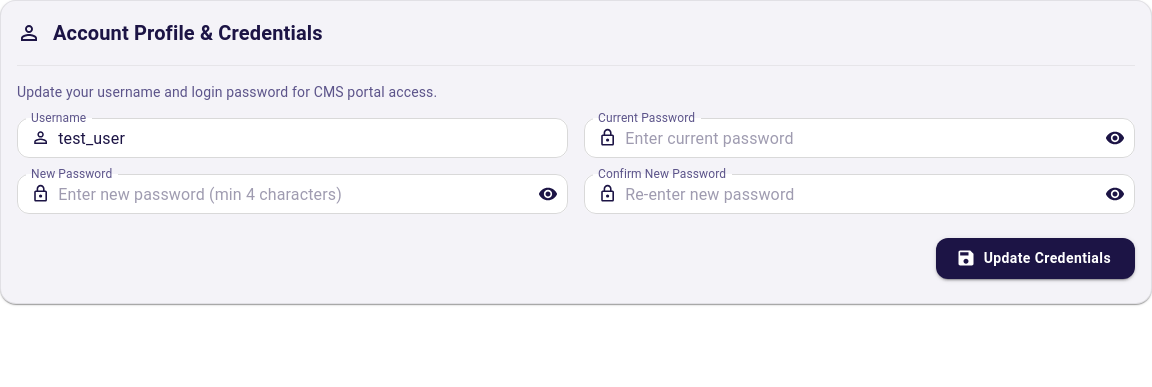
it: AccountSettingsCard Component › displays error when new password is less than 4 characters
The width and height of the screenshot is (1152, 387).
Type "123" into the password field labelled "New Password" at x=290, y=194, box top-left (58, 174), bottom-right (522, 214)
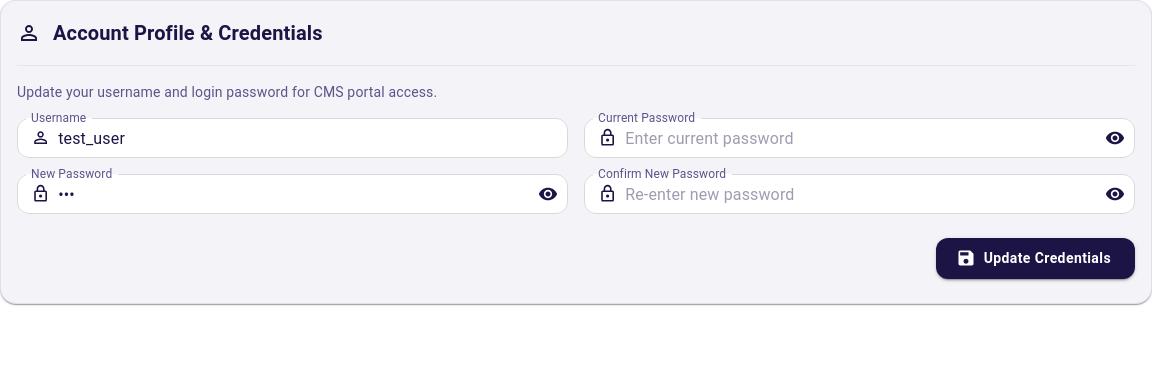
Click the button "Update Credentials" at x=1035, y=258, box top-left (936, 238), bottom-right (1135, 278)
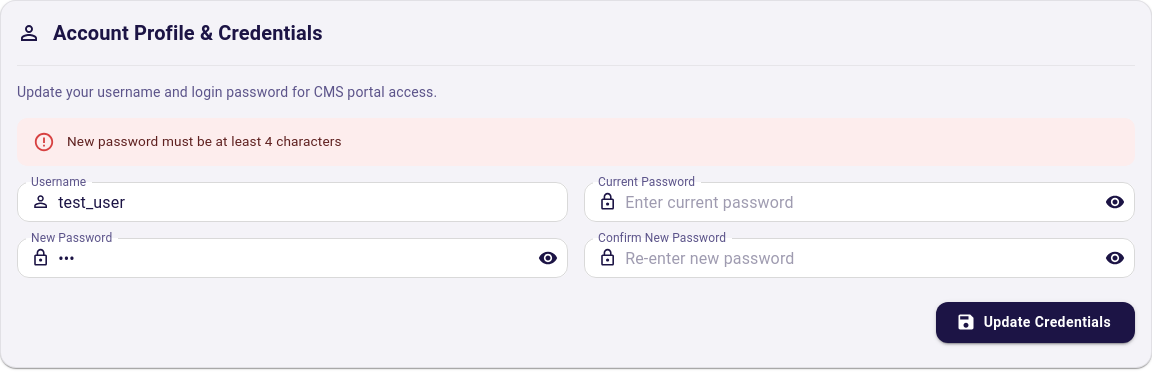
Result: the text "New password must be at least 4 characters" is shown at top-left (67, 133), bottom-right (342, 149)
